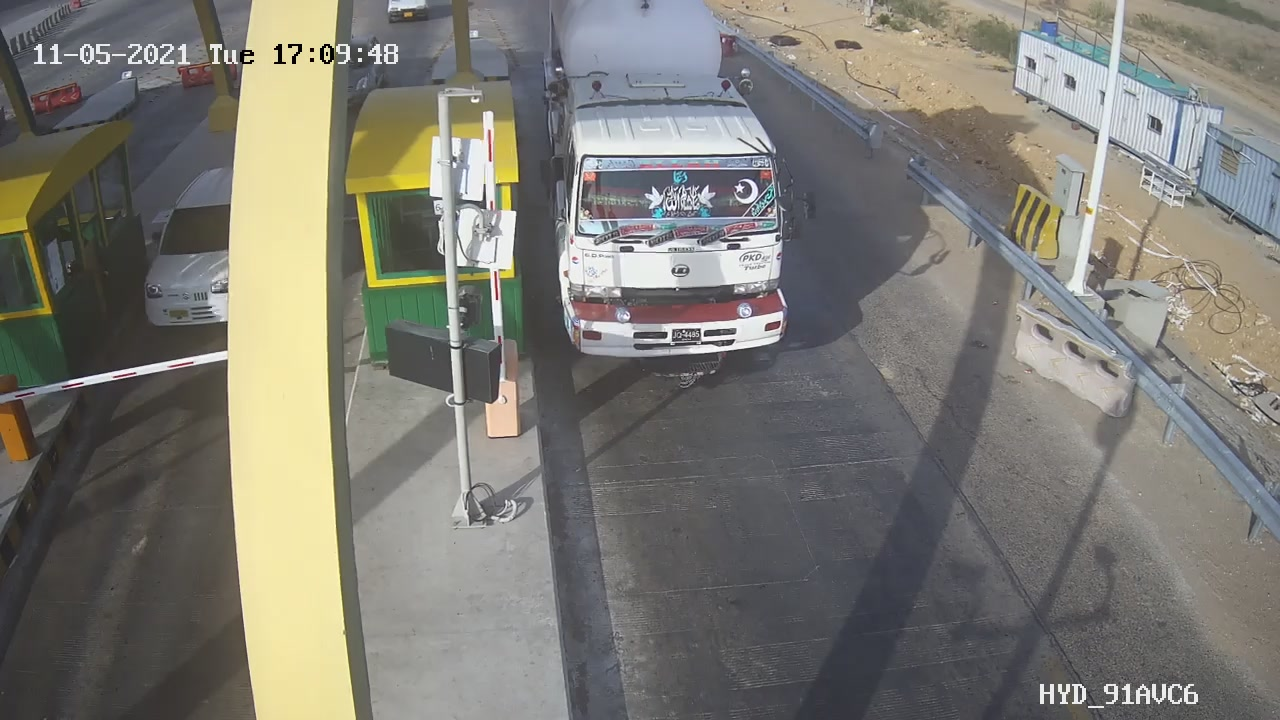F6: (529, 1, 831, 408)
